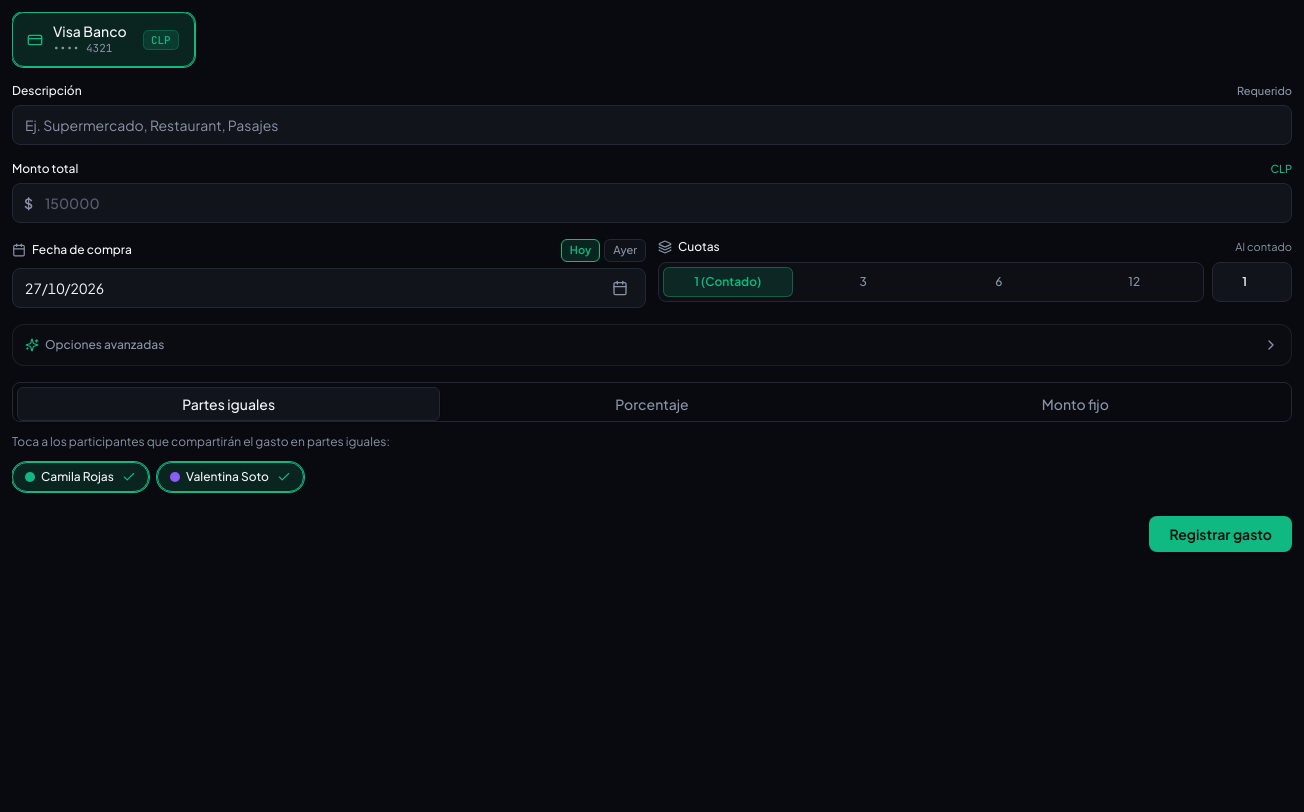
Scenario: QuickExpenseForm (Spec 004 T7) › Form Orchestration and Submitting › expands advanced options accordion when toggled
Expected: the field labelled "primer mes de facturación" is not shown
Click the button "Opciones avanzadas" at (105, 344), box [13, 325, 1291, 365]
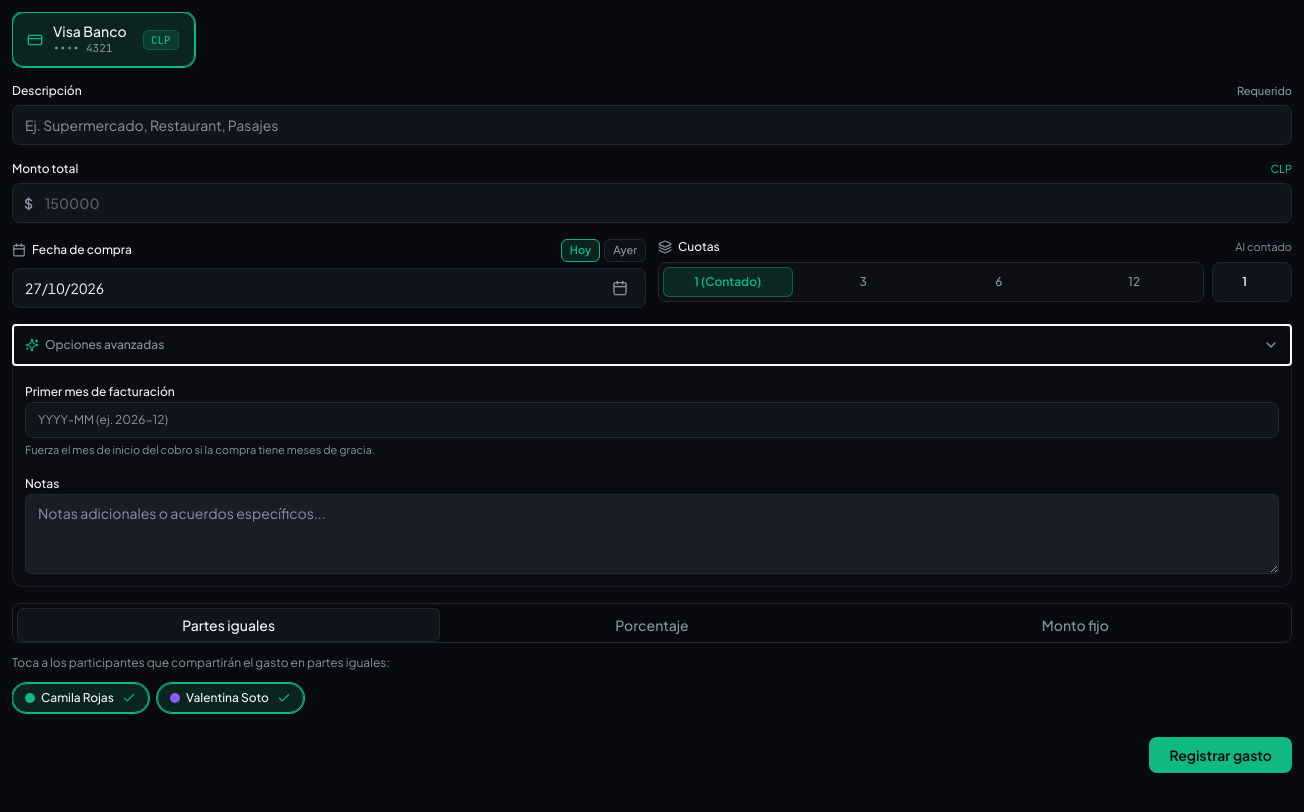
Result: the field labelled "Primer mes de facturación" is shown at [25, 402, 1279, 438]
Result: the text box labelled "Notas" is shown at [25, 494, 1279, 574]
